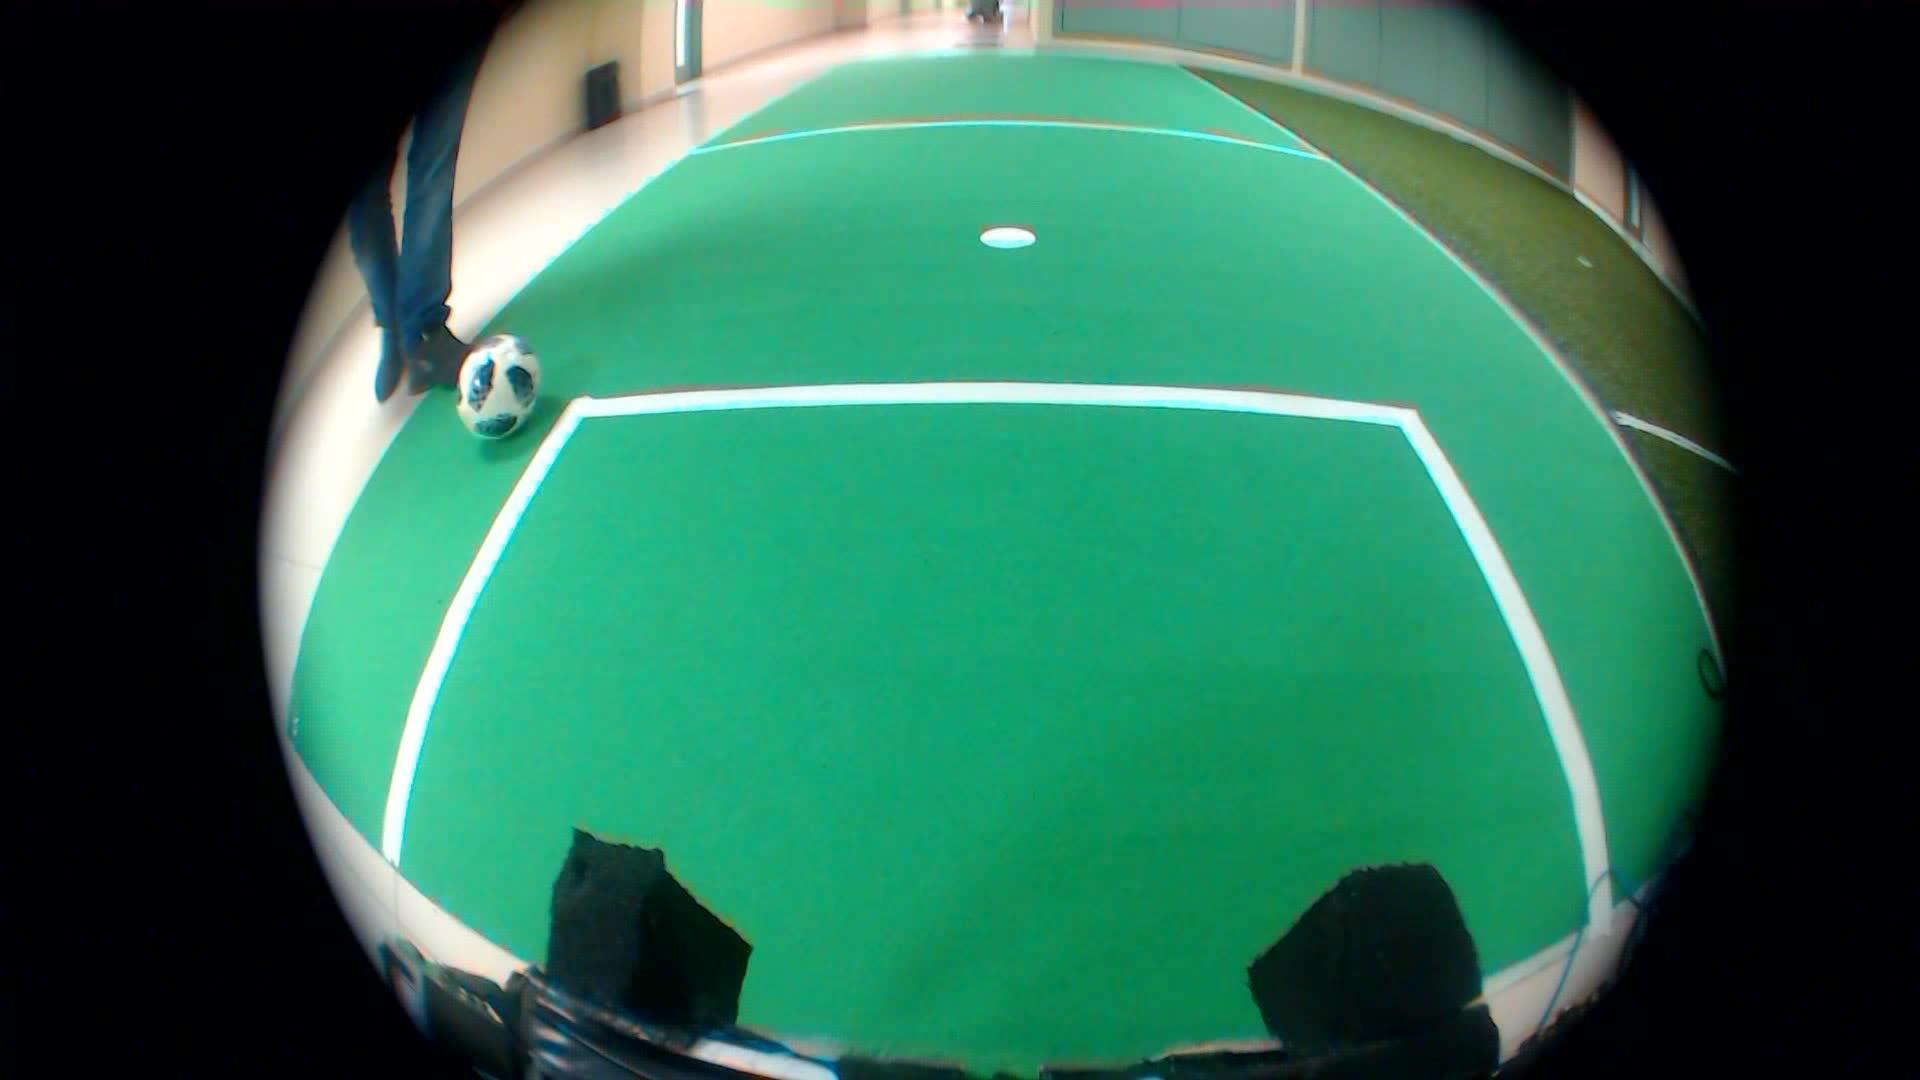ball: (440, 334, 553, 440)
